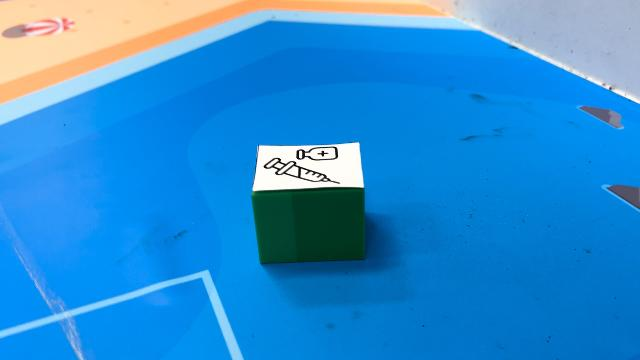syringe: (253, 144, 367, 266)
